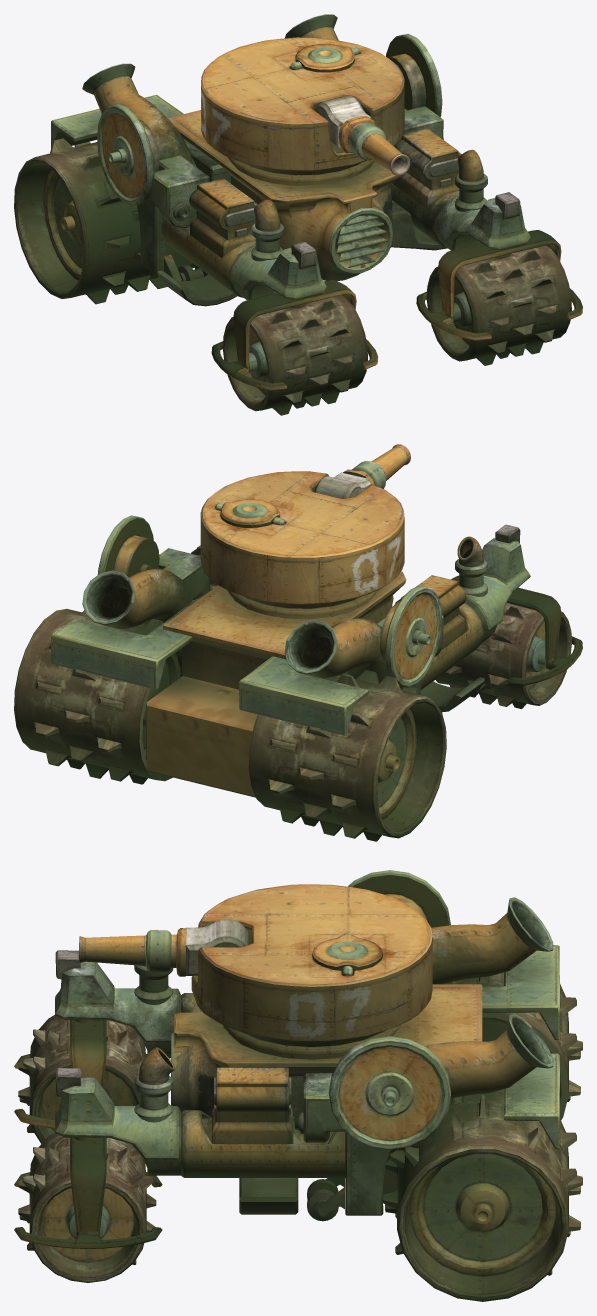
File: tank.fbx
The picture shows the model from 3 angles, top to bottom: view 1: azimuth 30°, elevation 25°; view 2: azimuth 150°, elevation 25°; view 3: azimuth 270°, elevation 25°; orthographic projection. The views are drawn at different scales.
Parts seen in each view (by area): view 1: r_engine_geo, turret_geo, r_back_wheel_geo, l_engine_geo, tank_geo, r_front_wheel_geo, l_front_wheel_geo, l_steer_geo, r_steer_geo, canon_geo, hatch_geo; view 2: r_engine_geo, r_back_wheel_geo, turret_geo, tank_geo, l_engine_geo, l_back_wheel_geo, r_front_wheel_geo, r_steer_geo, canon_geo, hatch_geo; view 3: l_engine_geo, turret_geo, l_back_wheel_geo, r_engine_geo, tank_geo, l_front_wheel_geo, r_front_wheel_geo, canon_geo, l_steer_geo, r_back_wheel_geo, r_steer_geo, hatch_geo.
Part boxes in pixels (x1,y1,x2,y2): r_engine_geo: [51, 63, 326, 300]; turret_geo: [201, 37, 404, 185]; r_back_wheel_geo: [14, 138, 196, 304]; l_engine_geo: [285, 14, 530, 250]; tank_geo: [157, 110, 447, 306]; r_front_wheel_geo: [223, 295, 367, 415]; l_front_wheel_geo: [426, 245, 571, 365]; l_steer_geo: [416, 230, 582, 340]; r_steer_geo: [211, 279, 378, 390]; canon_geo: [314, 96, 410, 175]; hatch_geo: [295, 44, 354, 71]; r_engine_geo: [239, 524, 530, 735]; r_back_wheel_geo: [248, 670, 446, 841]; turret_geo: [200, 471, 404, 619]; tank_geo: [146, 571, 484, 797]; l_engine_geo: [51, 515, 217, 689]; l_back_wheel_geo: [14, 608, 181, 784]; r_front_wheel_geo: [435, 603, 571, 708]; r_steer_geo: [451, 575, 582, 685]; canon_geo: [314, 444, 410, 498]; hatch_geo: [220, 499, 279, 527]; l_engine_geo: [55, 1014, 559, 1221]; turret_geo: [191, 884, 432, 1059]; l_back_wheel_geo: [383, 1089, 582, 1301]; r_engine_geo: [55, 870, 559, 1058]; tank_geo: [171, 984, 482, 1214]; l_front_wheel_geo: [18, 1132, 156, 1282]; r_front_wheel_geo: [18, 1015, 145, 1143]; canon_geo: [79, 919, 249, 976]; l_steer_geo: [14, 1137, 162, 1248]; r_back_wheel_geo: [443, 972, 582, 1120]; r_steer_geo: [14, 1020, 147, 1128]; hatch_geo: [312, 933, 382, 969].
Size of the model in its own units: 6.06 by 3.85 by 6.98.
Materials: 2 (2 with a texture image).
